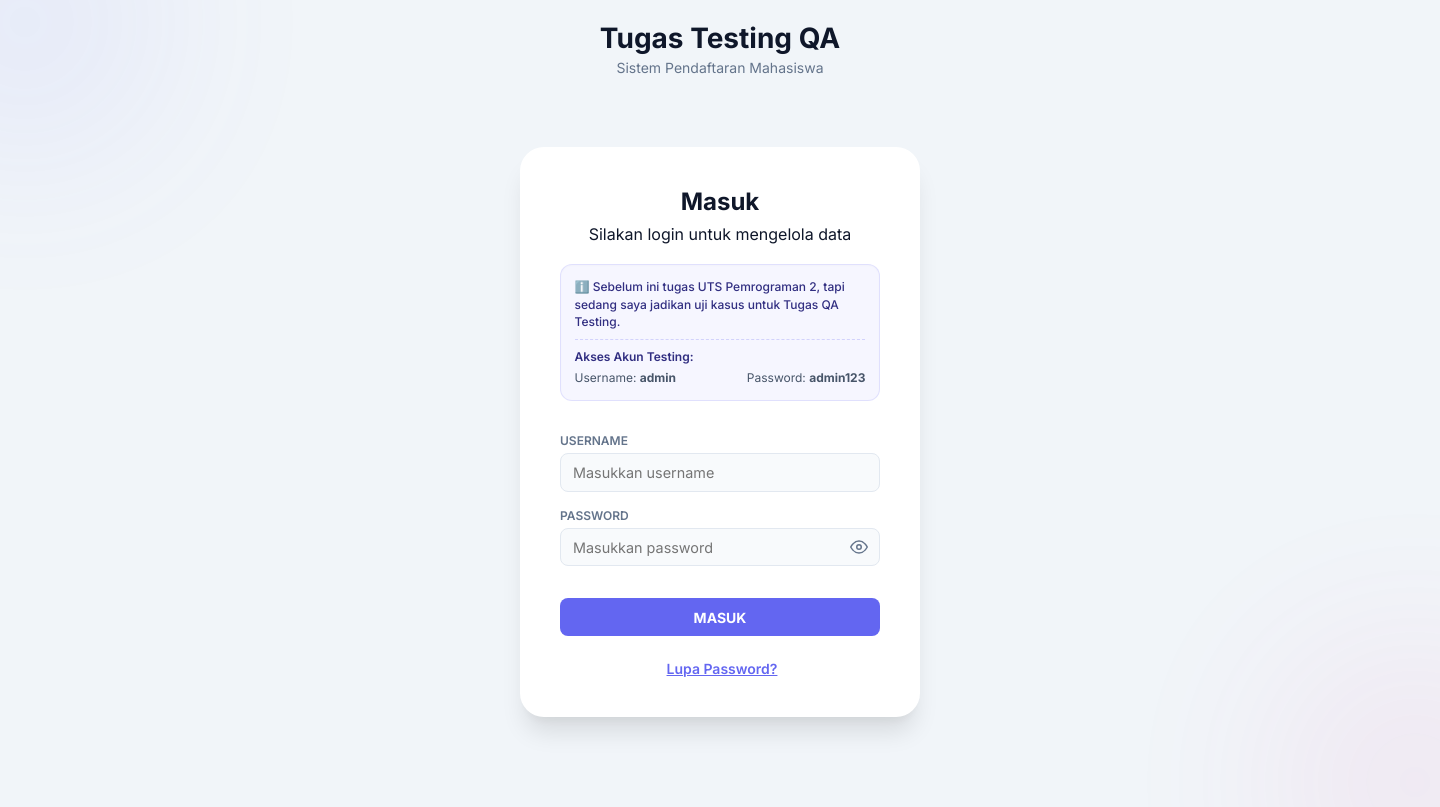
Test case: App Component › Student Management - CRUD Flow › 19. should edit student name and persist changes
The width and height of the screenshot is (1440, 807).
Type "admin" into the field labelled "Username" at (720, 473), box [560, 454, 880, 492]
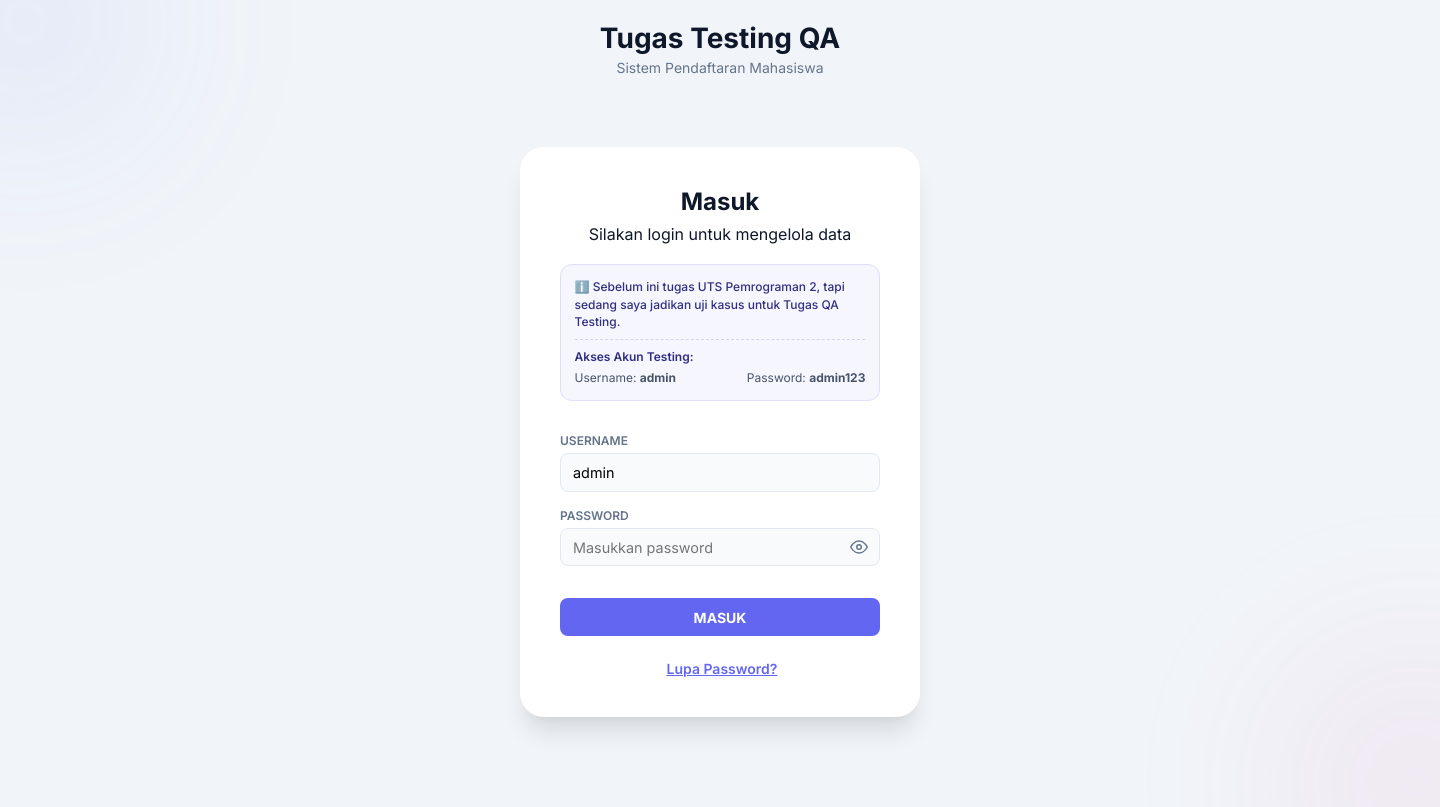
Type "admin123" into the password field labelled "Password" at (720, 547), box [560, 528, 880, 566]
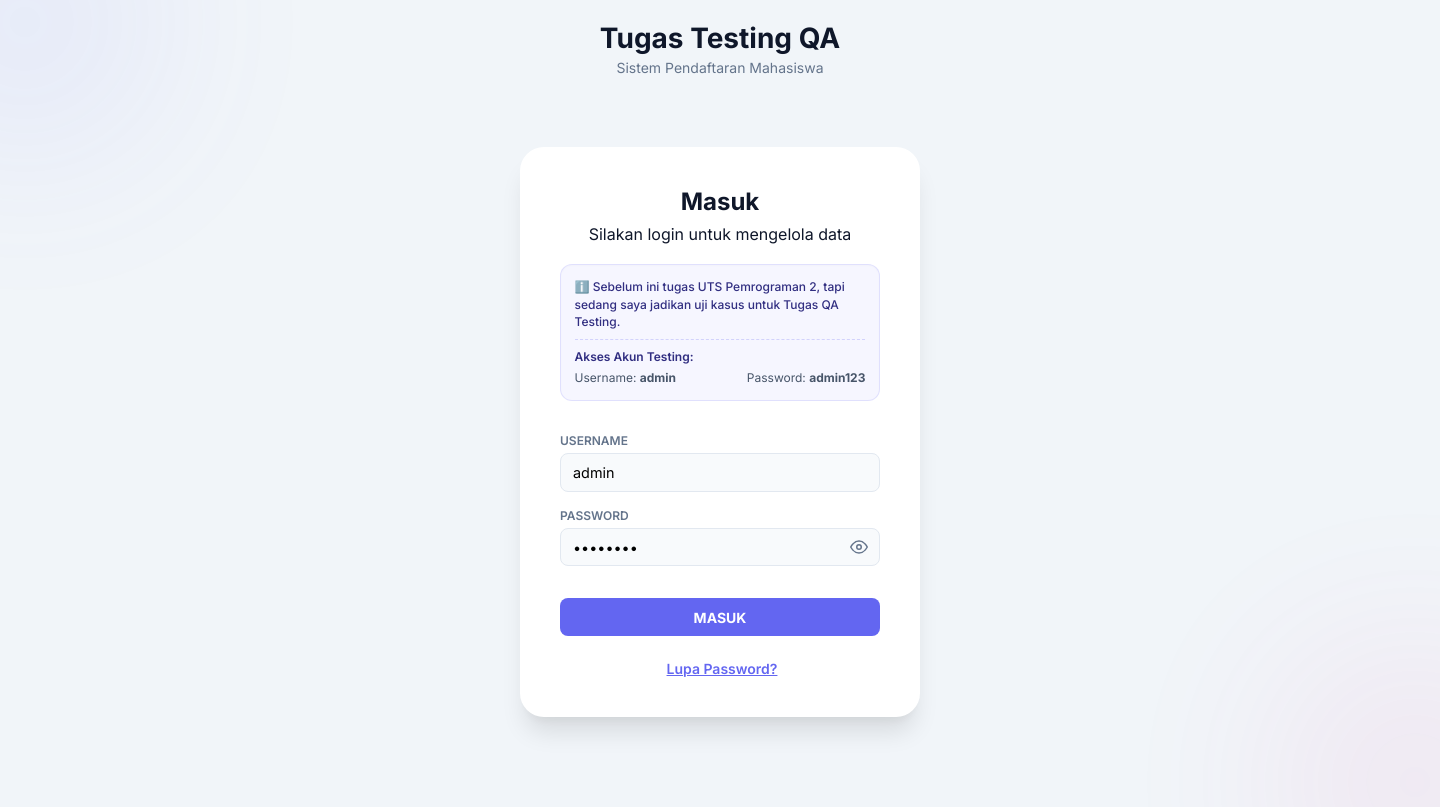
Click the button "MASUK" at (720, 617), box [560, 598, 880, 636]
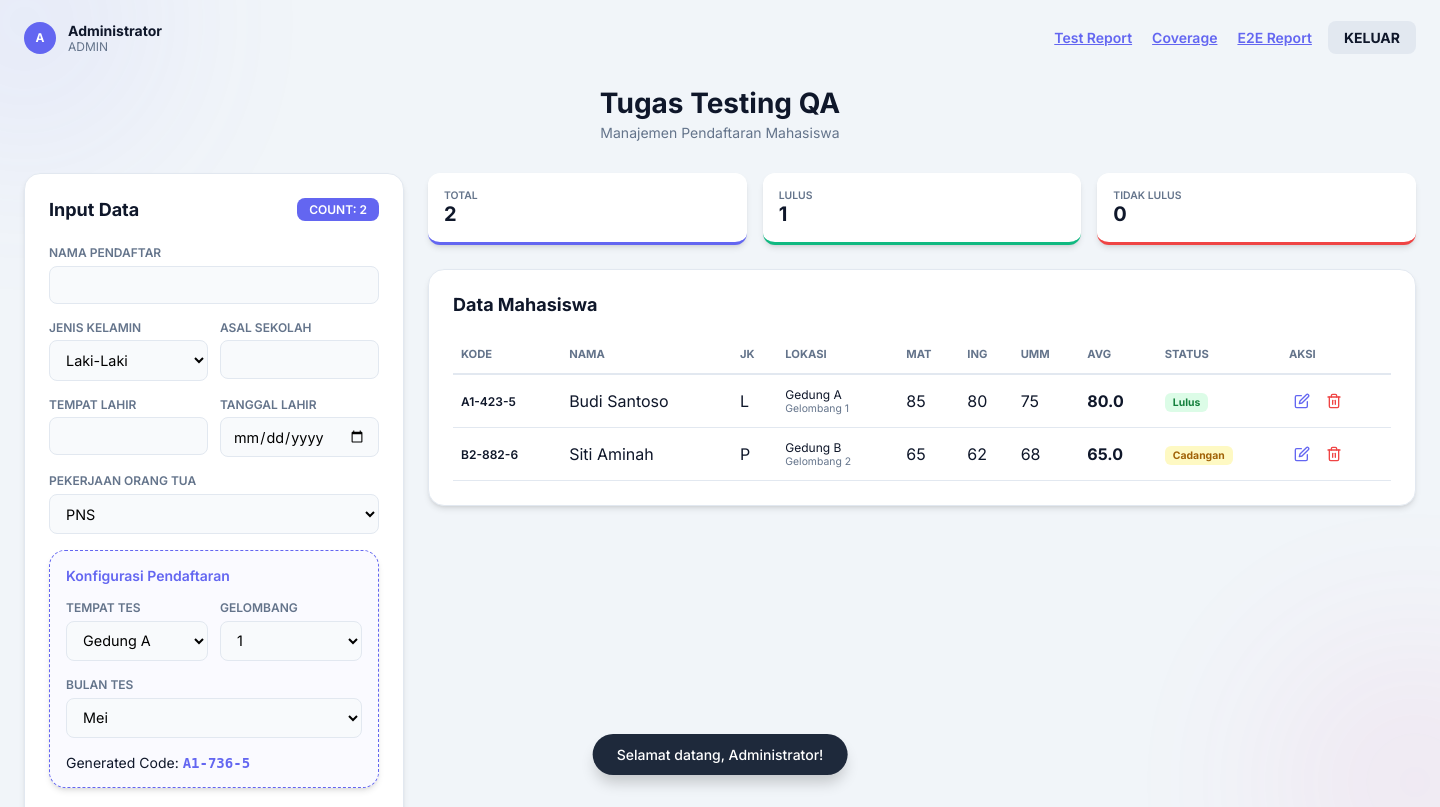
Click the 2nd button at (1302, 401), box [1289, 387, 1316, 415]
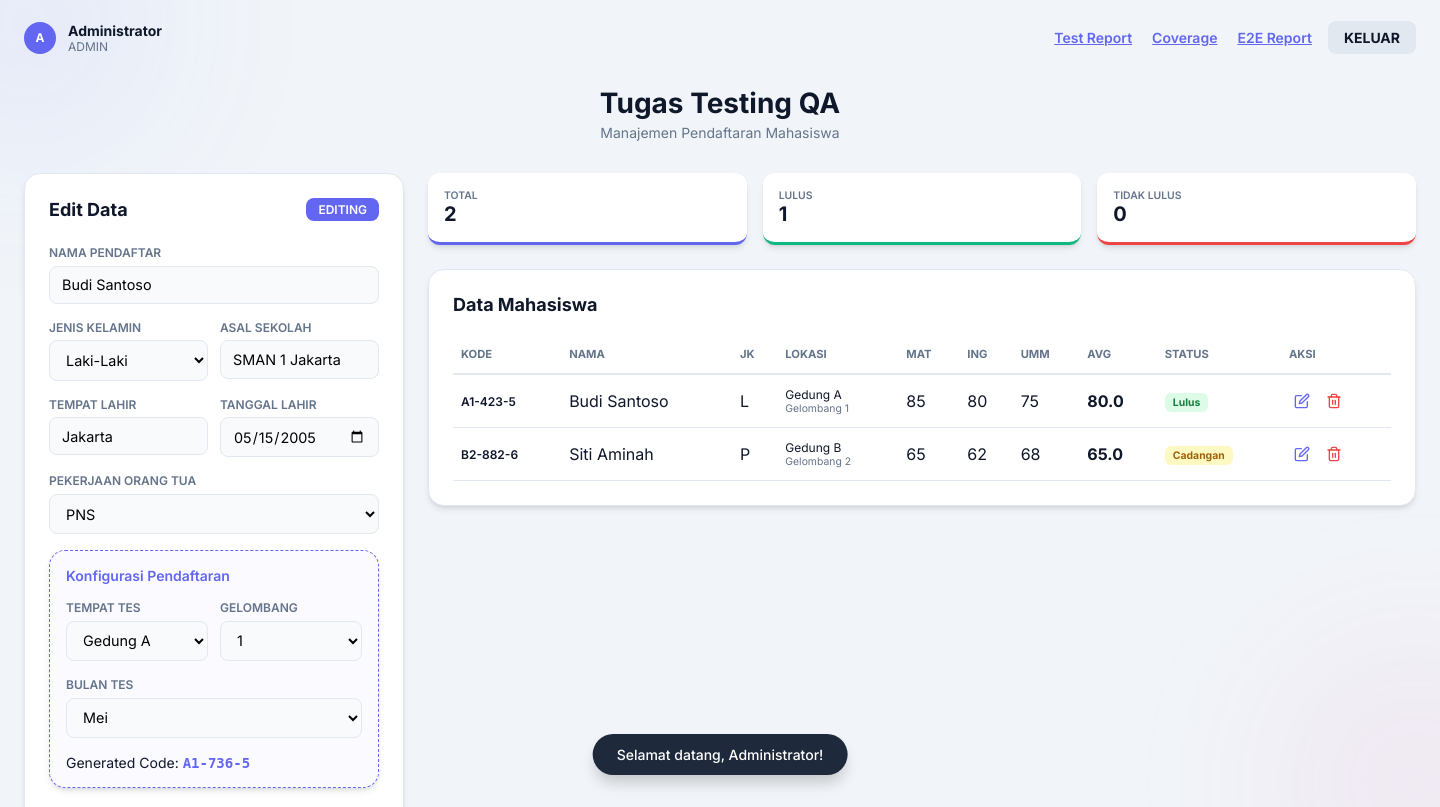
Replace the text in the field labelled "Nama Pendaftar" with "Budi Renamed" at (214, 285), box [49, 266, 379, 304]
(page scrolled)
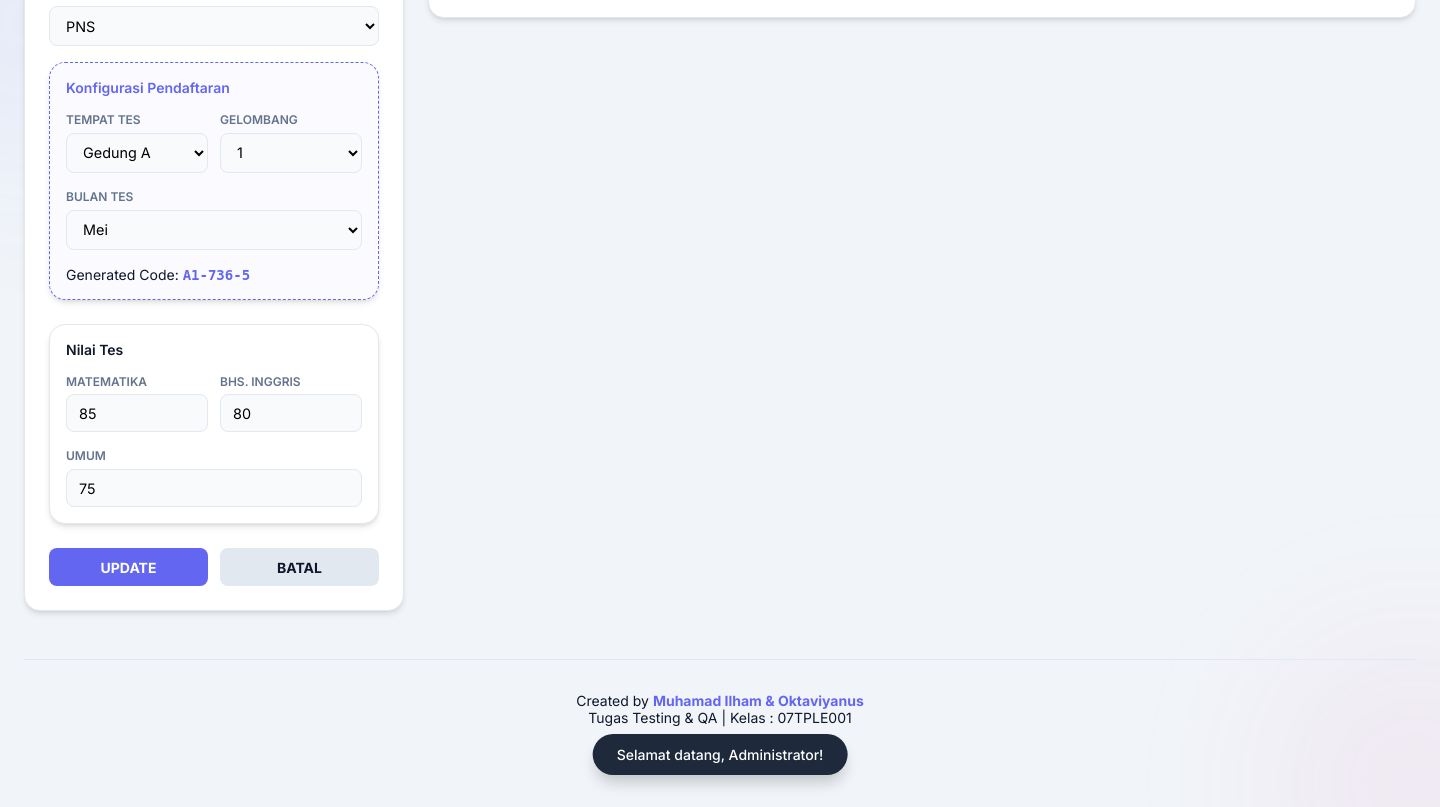
Click the button "UPDATE" at (128, 567), box [49, 548, 208, 586]
(page scrolled)
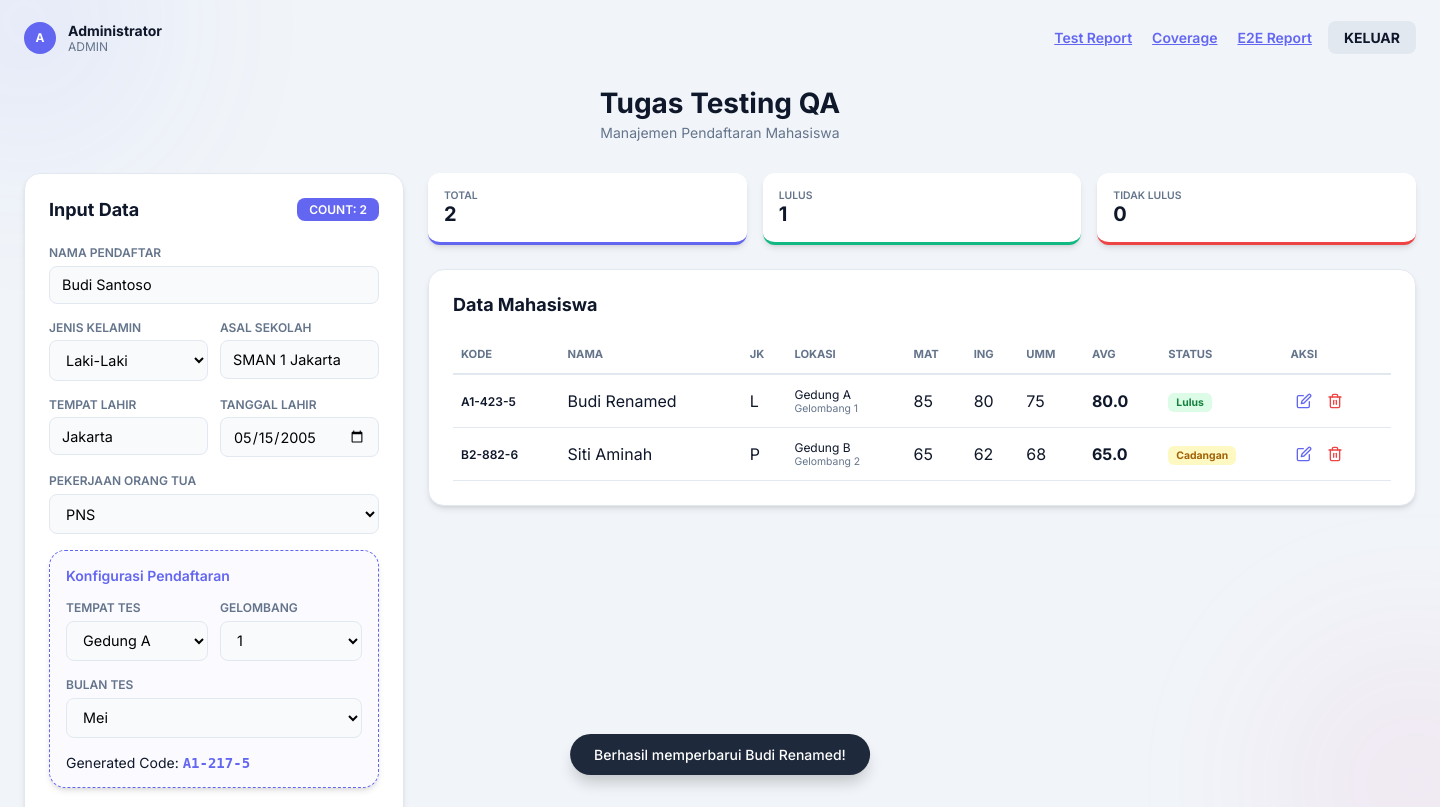
Expected: the text "Budi Renamed" is shown, [560, 374, 742, 428]
